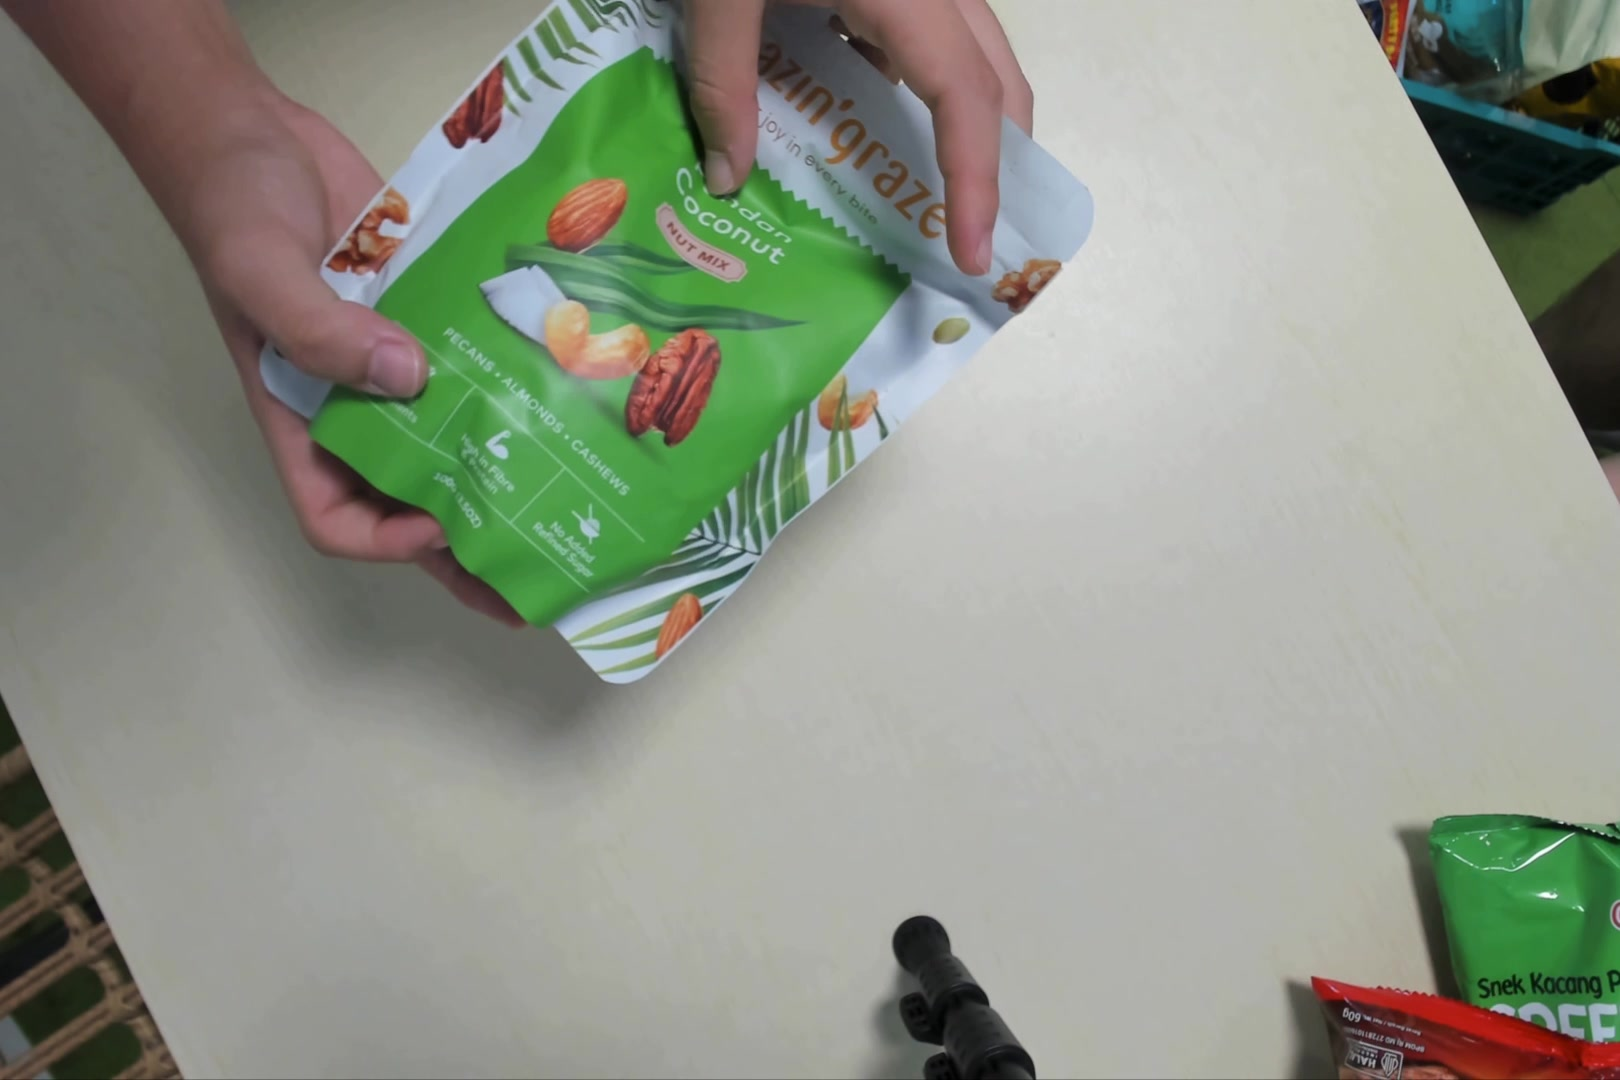Nuts_100-199g_Halal_NonHealthy: (265, 7, 1092, 704)
